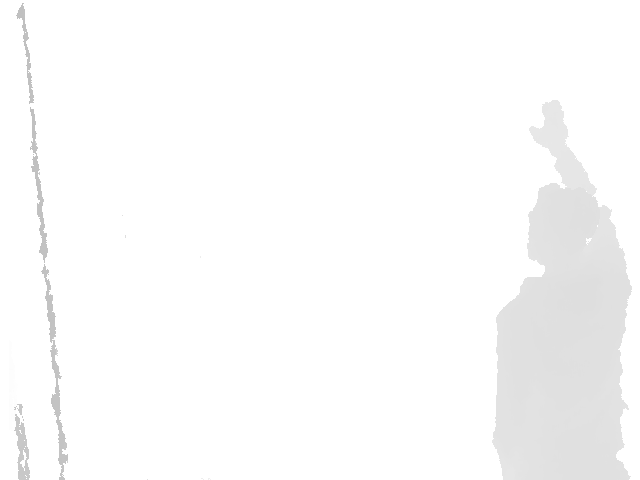hand: (528, 99, 569, 152)
head: (526, 183, 600, 269)
person: (491, 99, 633, 480)
